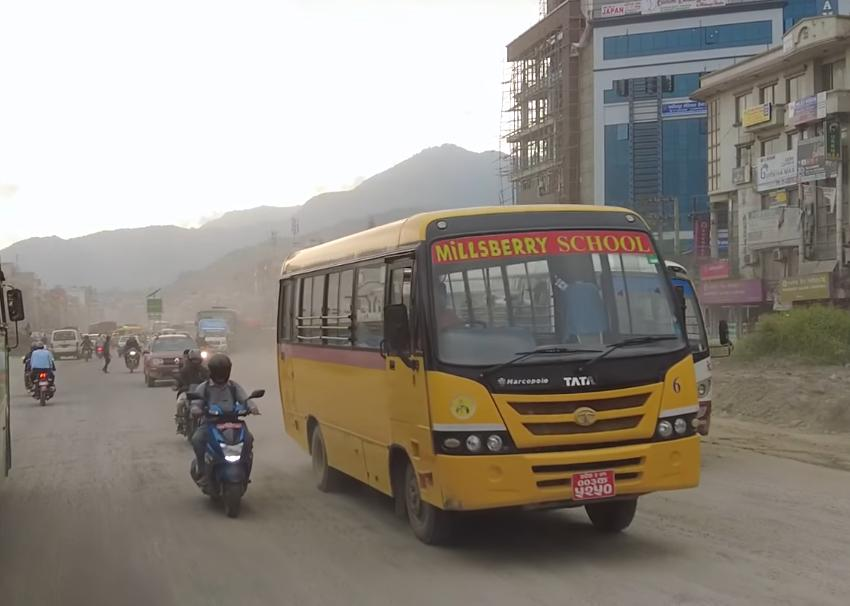SUV: (141, 331, 206, 386)
bike: (180, 386, 267, 518), (23, 356, 60, 407)
school_bus: (274, 199, 710, 554)
